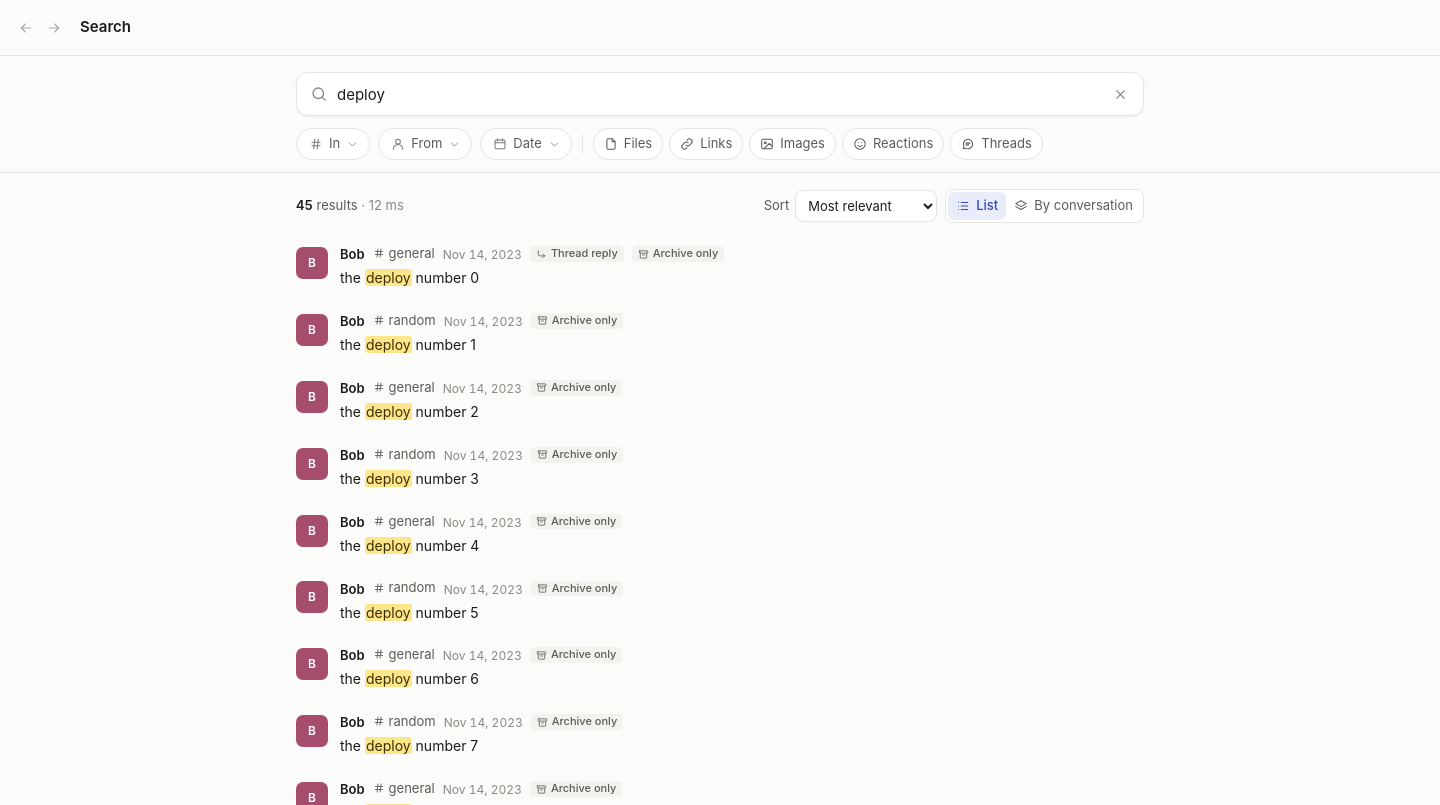
Scenario: SearchPage › autocompletes a modifier and searches on submit
Replace the text in the dropdown named "Search messages" with "deploy from:ca". click: {"x": 720, "y": 94}
box: [296, 72, 1144, 116]
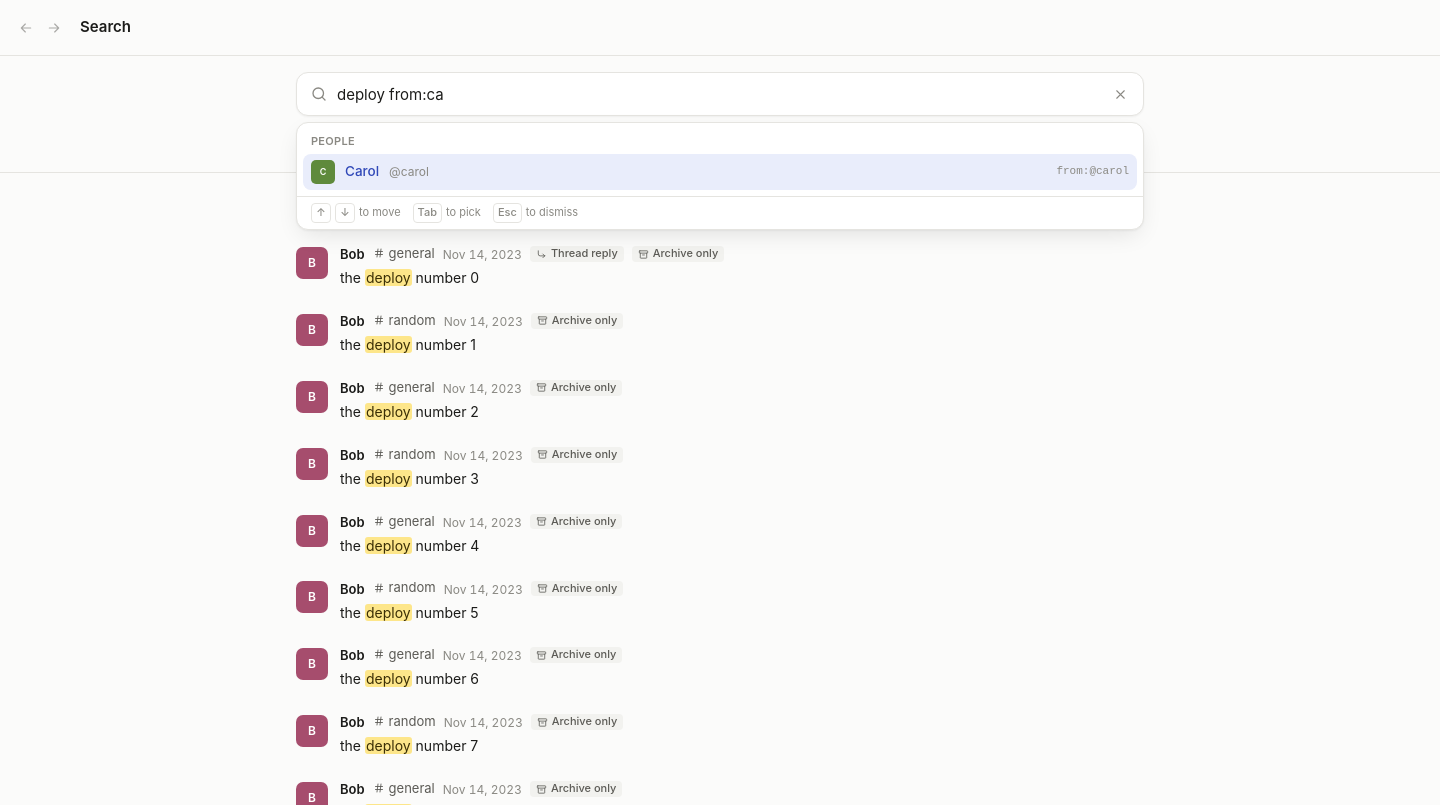
Press Enter in the dropdown named "Search messages", box [296, 72, 1144, 116]
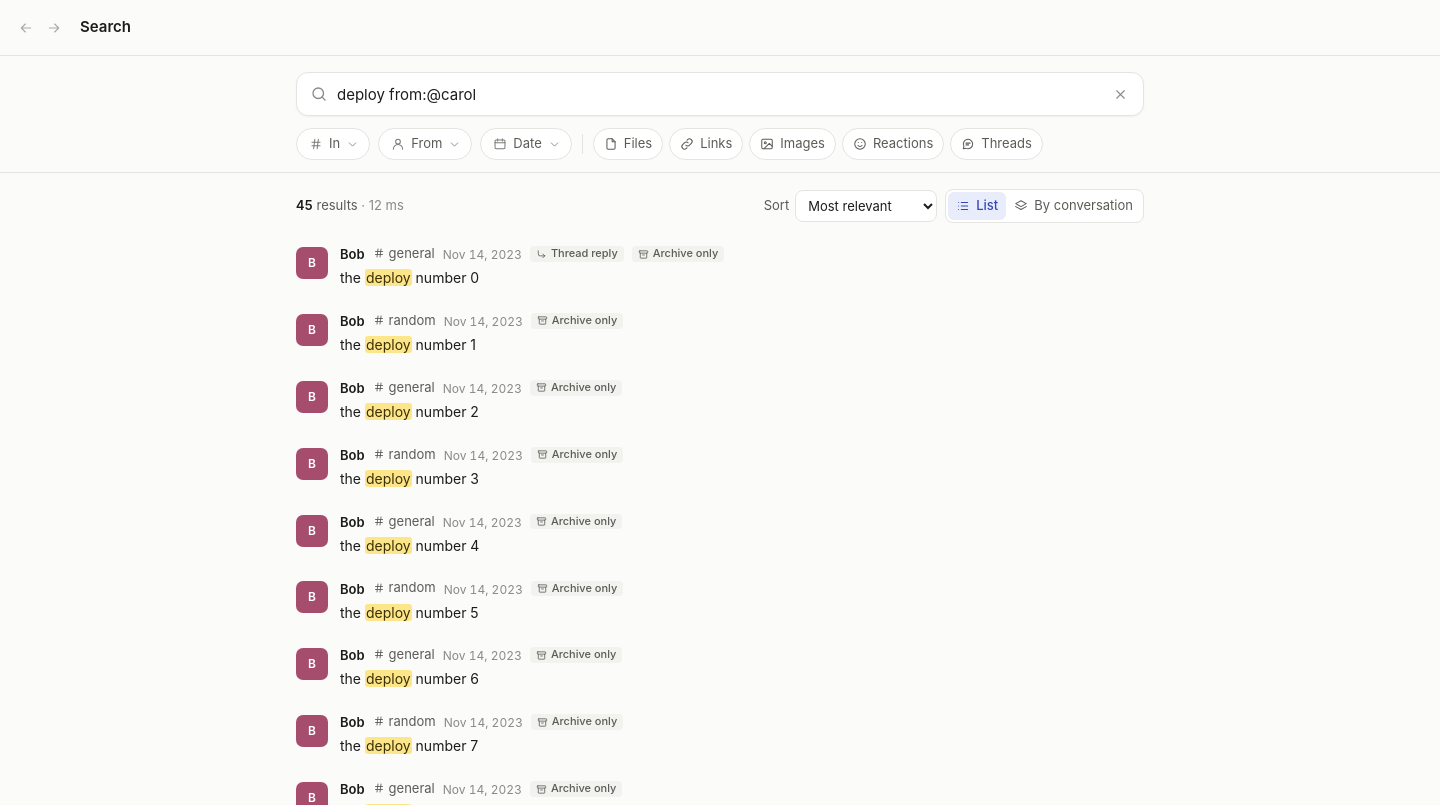
Submit the form, box [296, 72, 1144, 116]
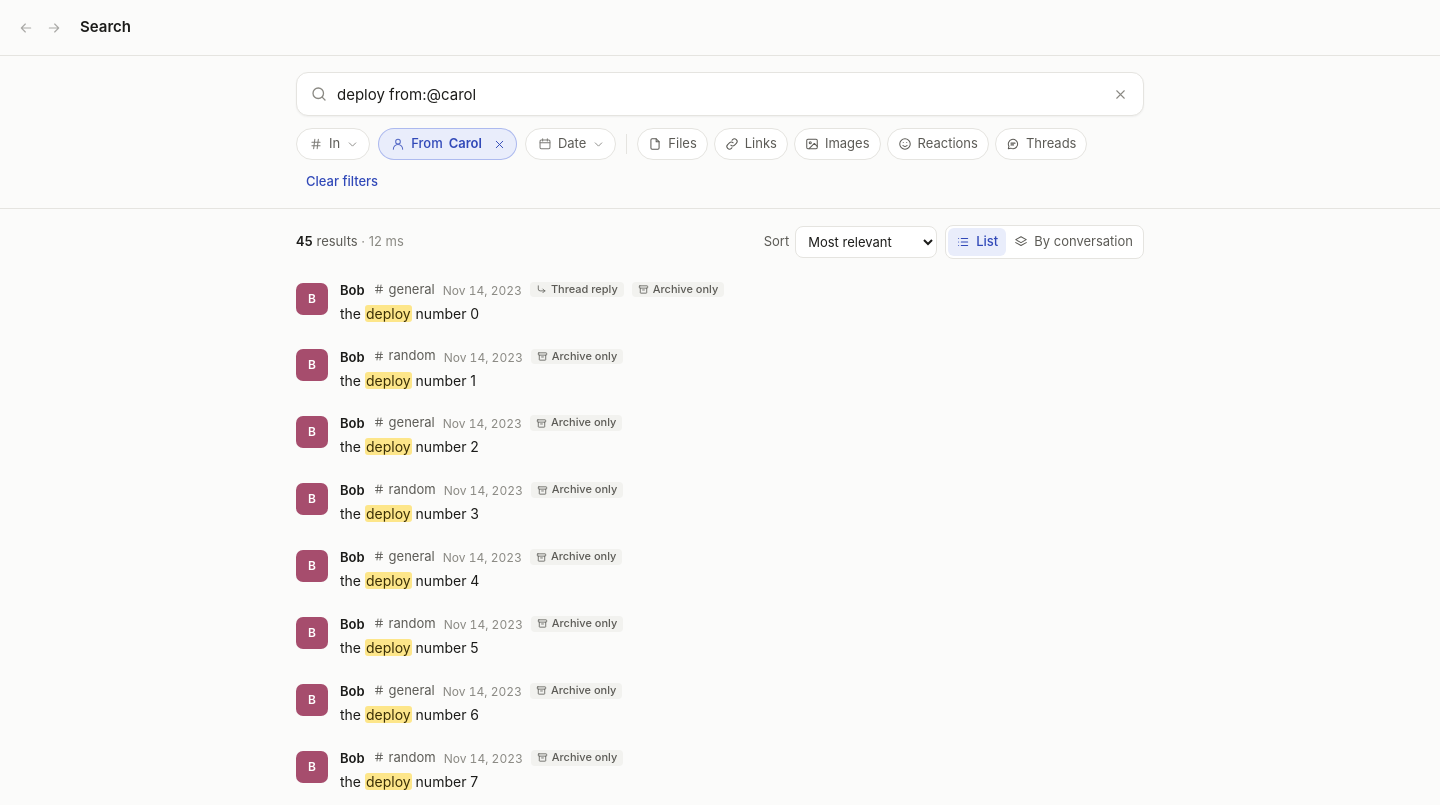
expect the button named "Clear From filter" is shown: met, box [488, 132, 512, 156]
